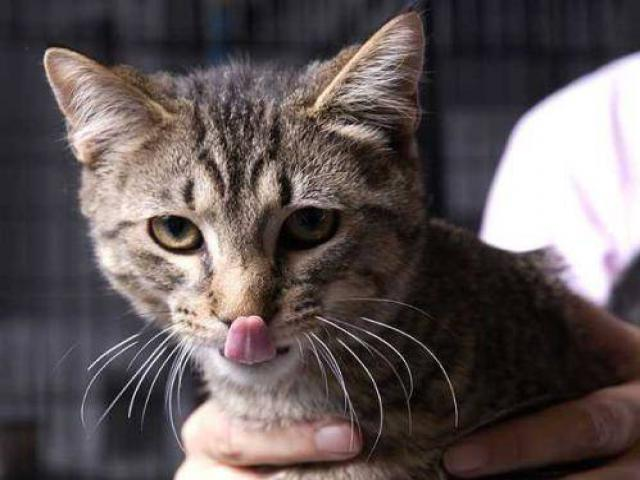cat: (39, 3, 633, 476)
